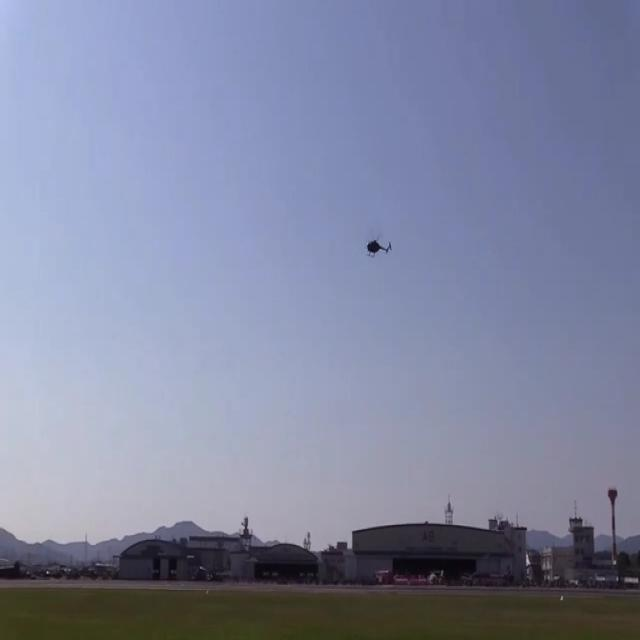Helicopter: (348, 209, 404, 279)
